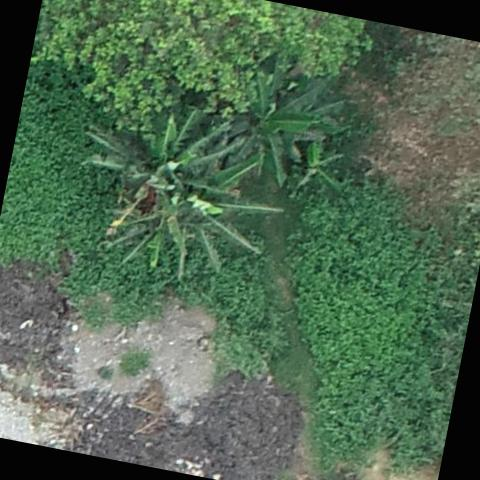Banana-plant: (86, 116, 284, 290), (84, 88, 206, 222), (204, 60, 326, 190), (286, 136, 360, 206)
